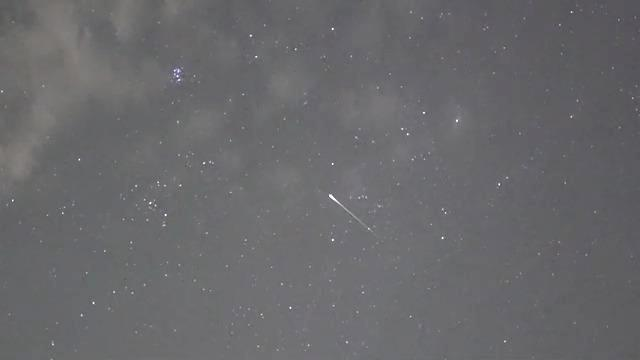meteorite: (309, 191, 392, 236)
